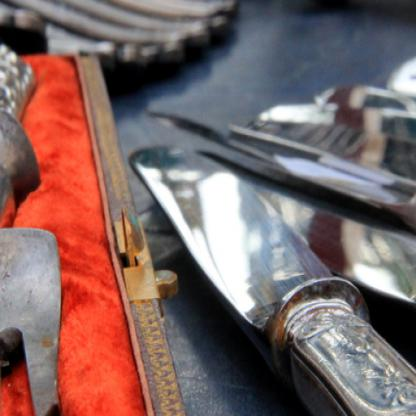knife: (132, 141, 416, 415), (205, 143, 415, 415), (146, 98, 415, 306)
